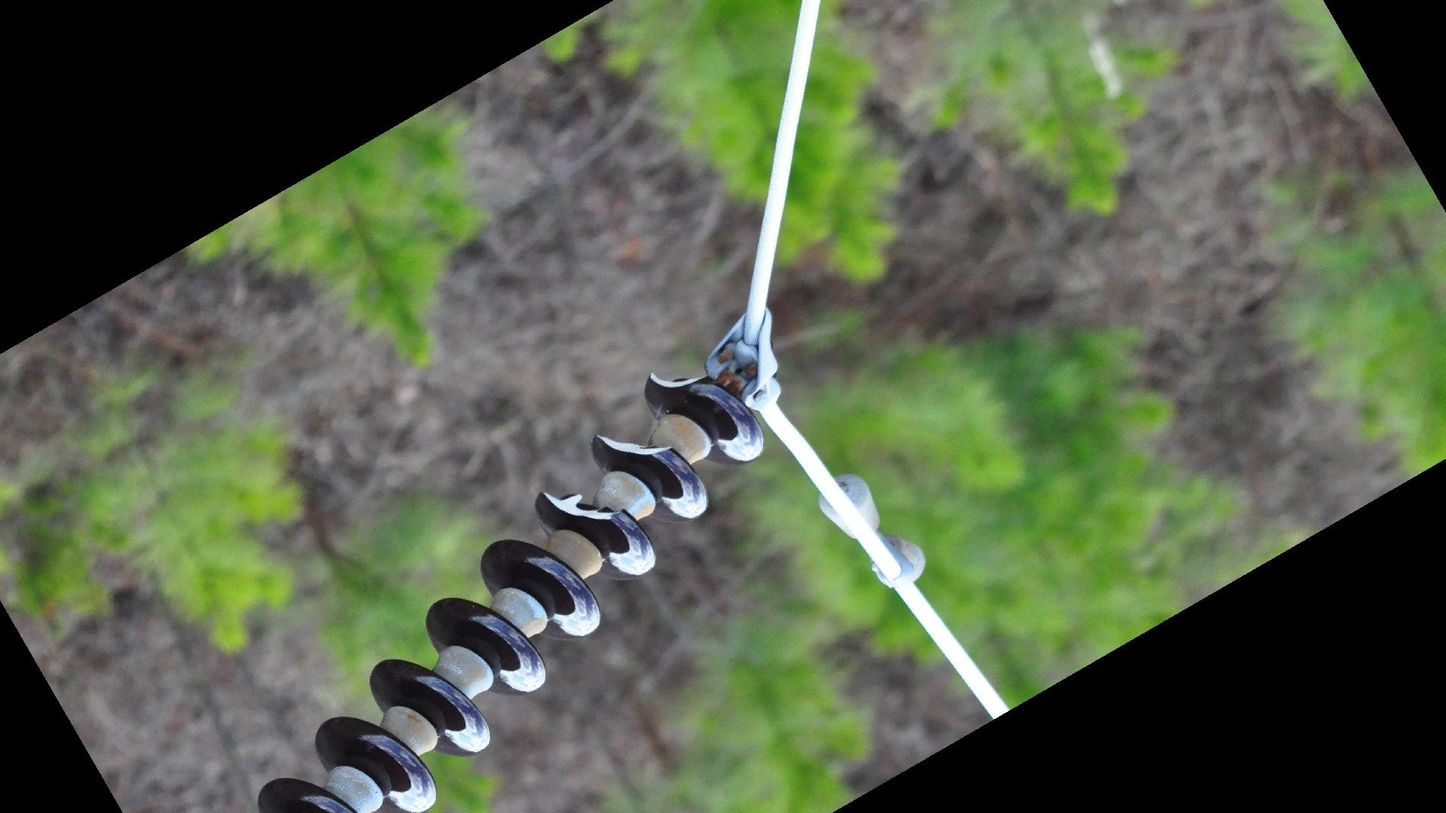insulator: (253, 368, 769, 813)
insulator_breakage: (532, 487, 630, 527), (589, 430, 677, 458), (645, 370, 712, 391)
